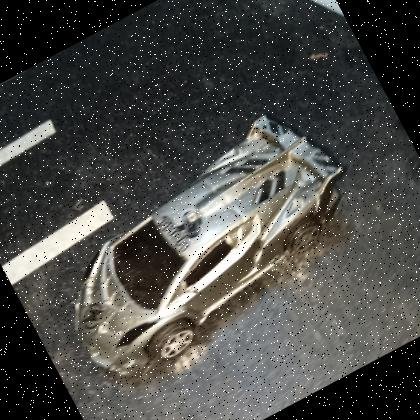Car: (75, 115, 346, 377)
